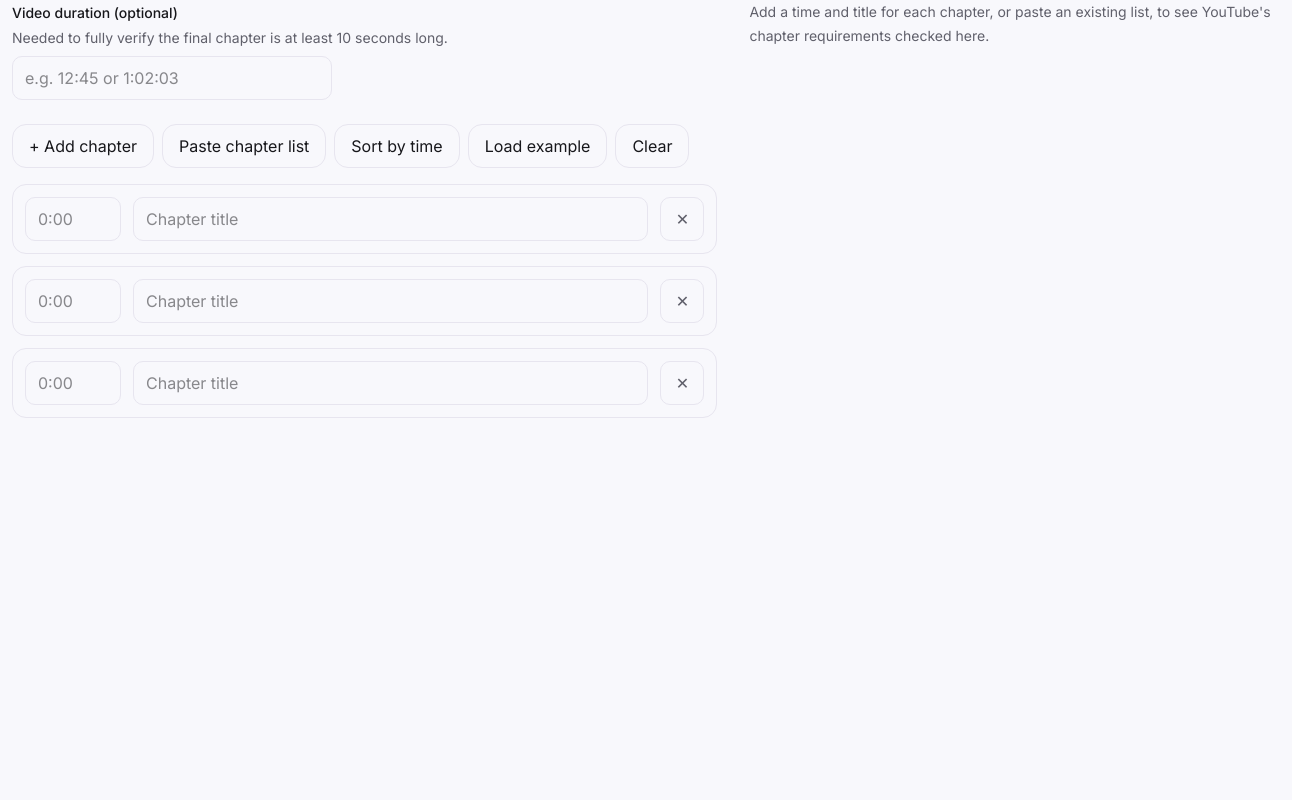
Test case: YoutubeChapterGenerator › Load example also populates a video duration, producing a fully verified Ready state with no warnings or unverified items
Click the button "Load example": point(538, 146) 468,124 -> 607,168
(page scrolled)
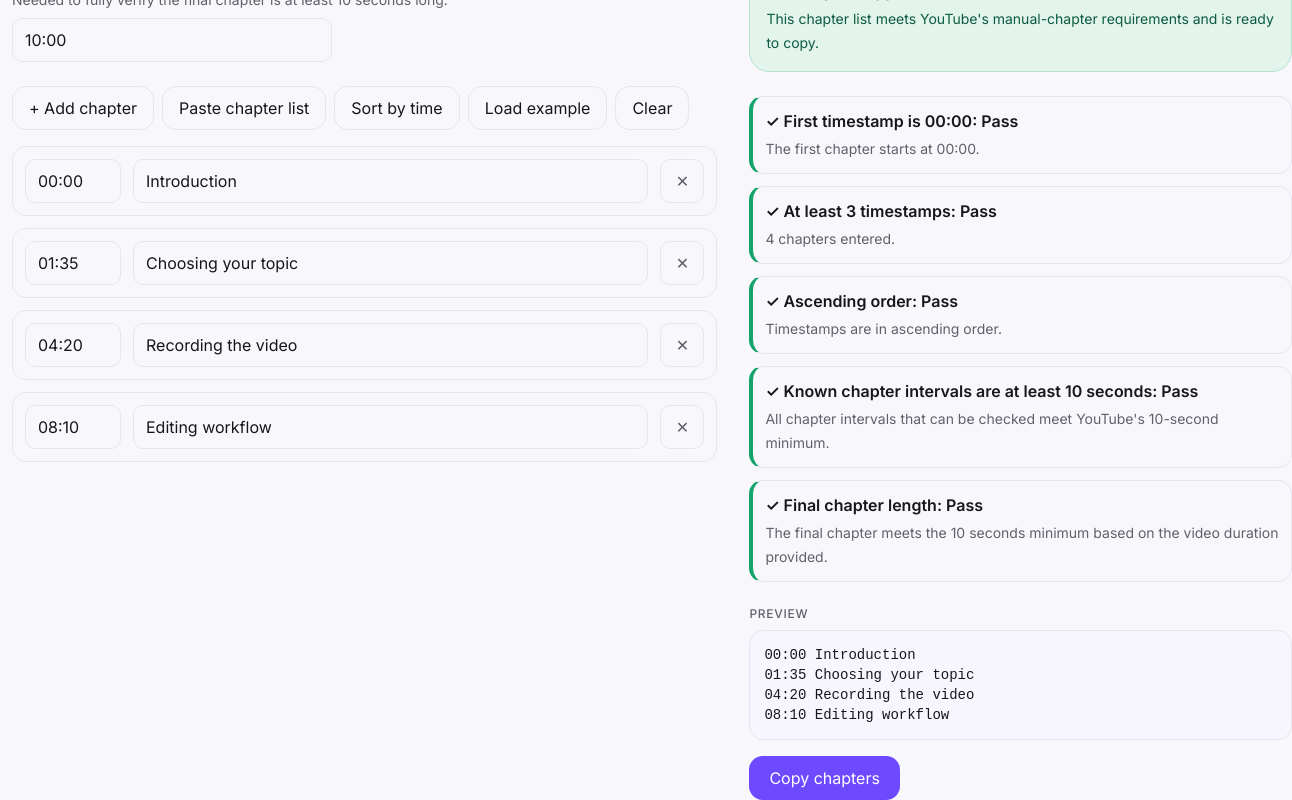
Check: the field labelled "Video duration (optional)" is not empty, box 12,18 -> 332,62
Check: the text "✓ Final chapter length: Pass" is shown, box 765,495 -> 983,515
Check: the button "Copy chapters" is enabled, box 749,756 -> 900,799
